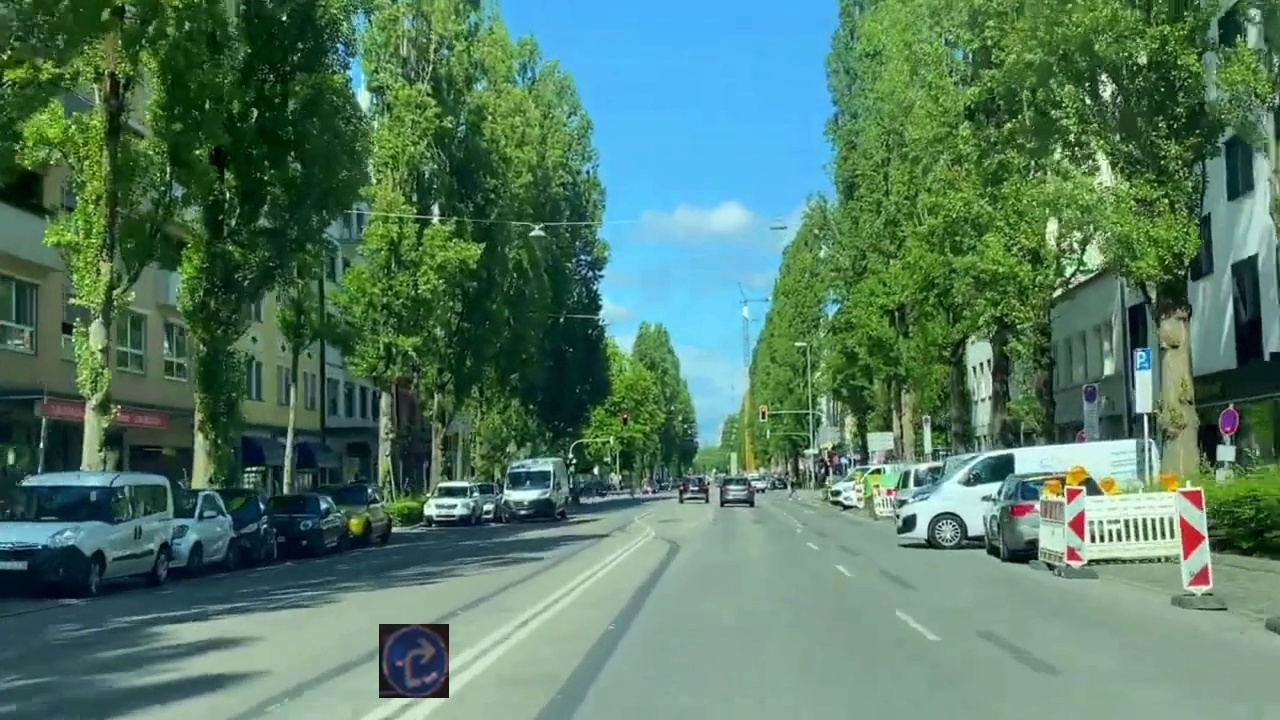Turn right: (379, 624, 449, 698)
